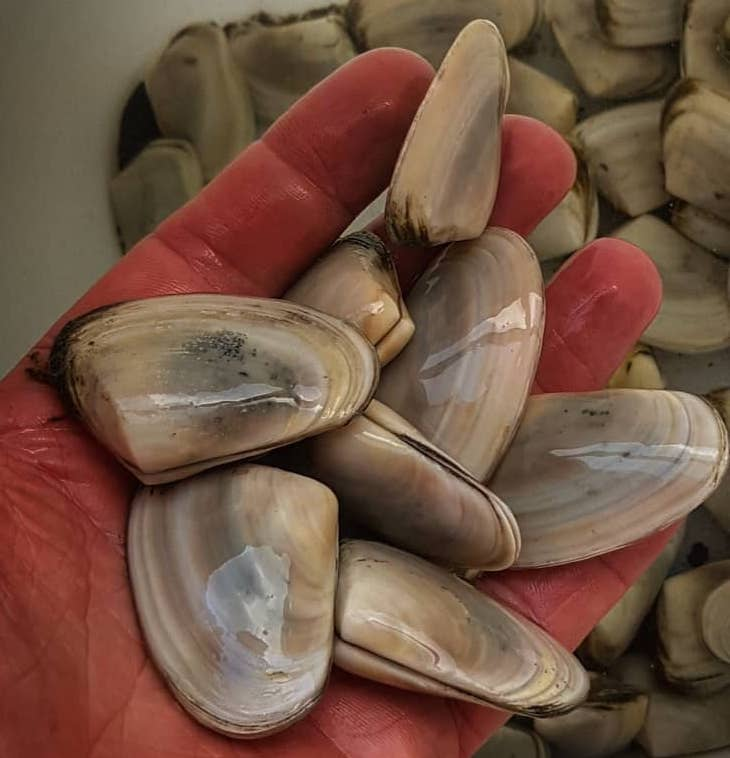tuatua: (53, 292, 375, 483), (124, 468, 344, 745), (336, 532, 587, 723), (311, 392, 530, 578), (388, 222, 543, 481), (509, 387, 726, 567), (384, 15, 507, 255), (286, 228, 425, 368)
